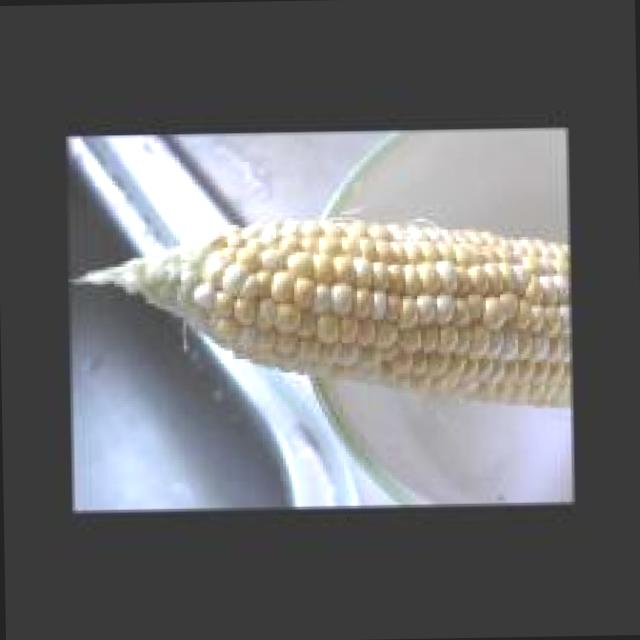corn: (79, 218, 570, 410)
